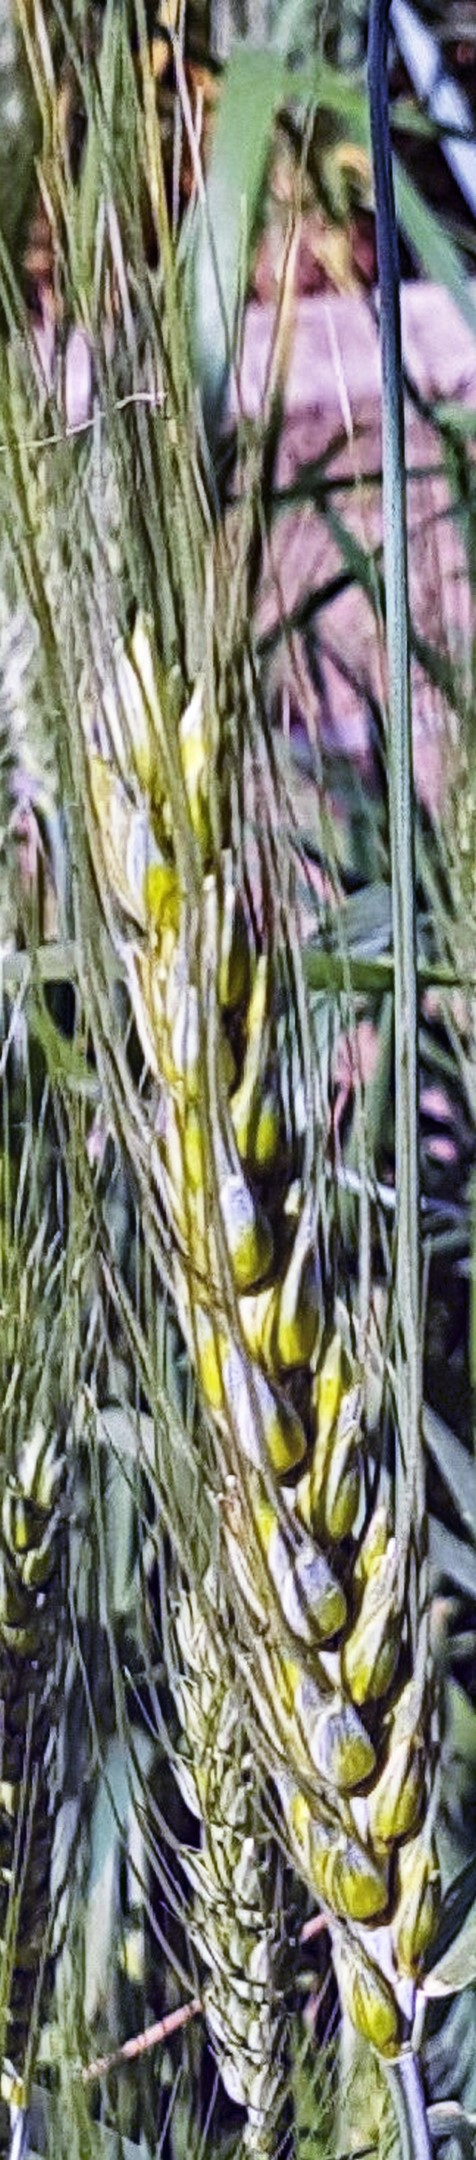Healthy Wheat: (72, 631, 466, 1926)
